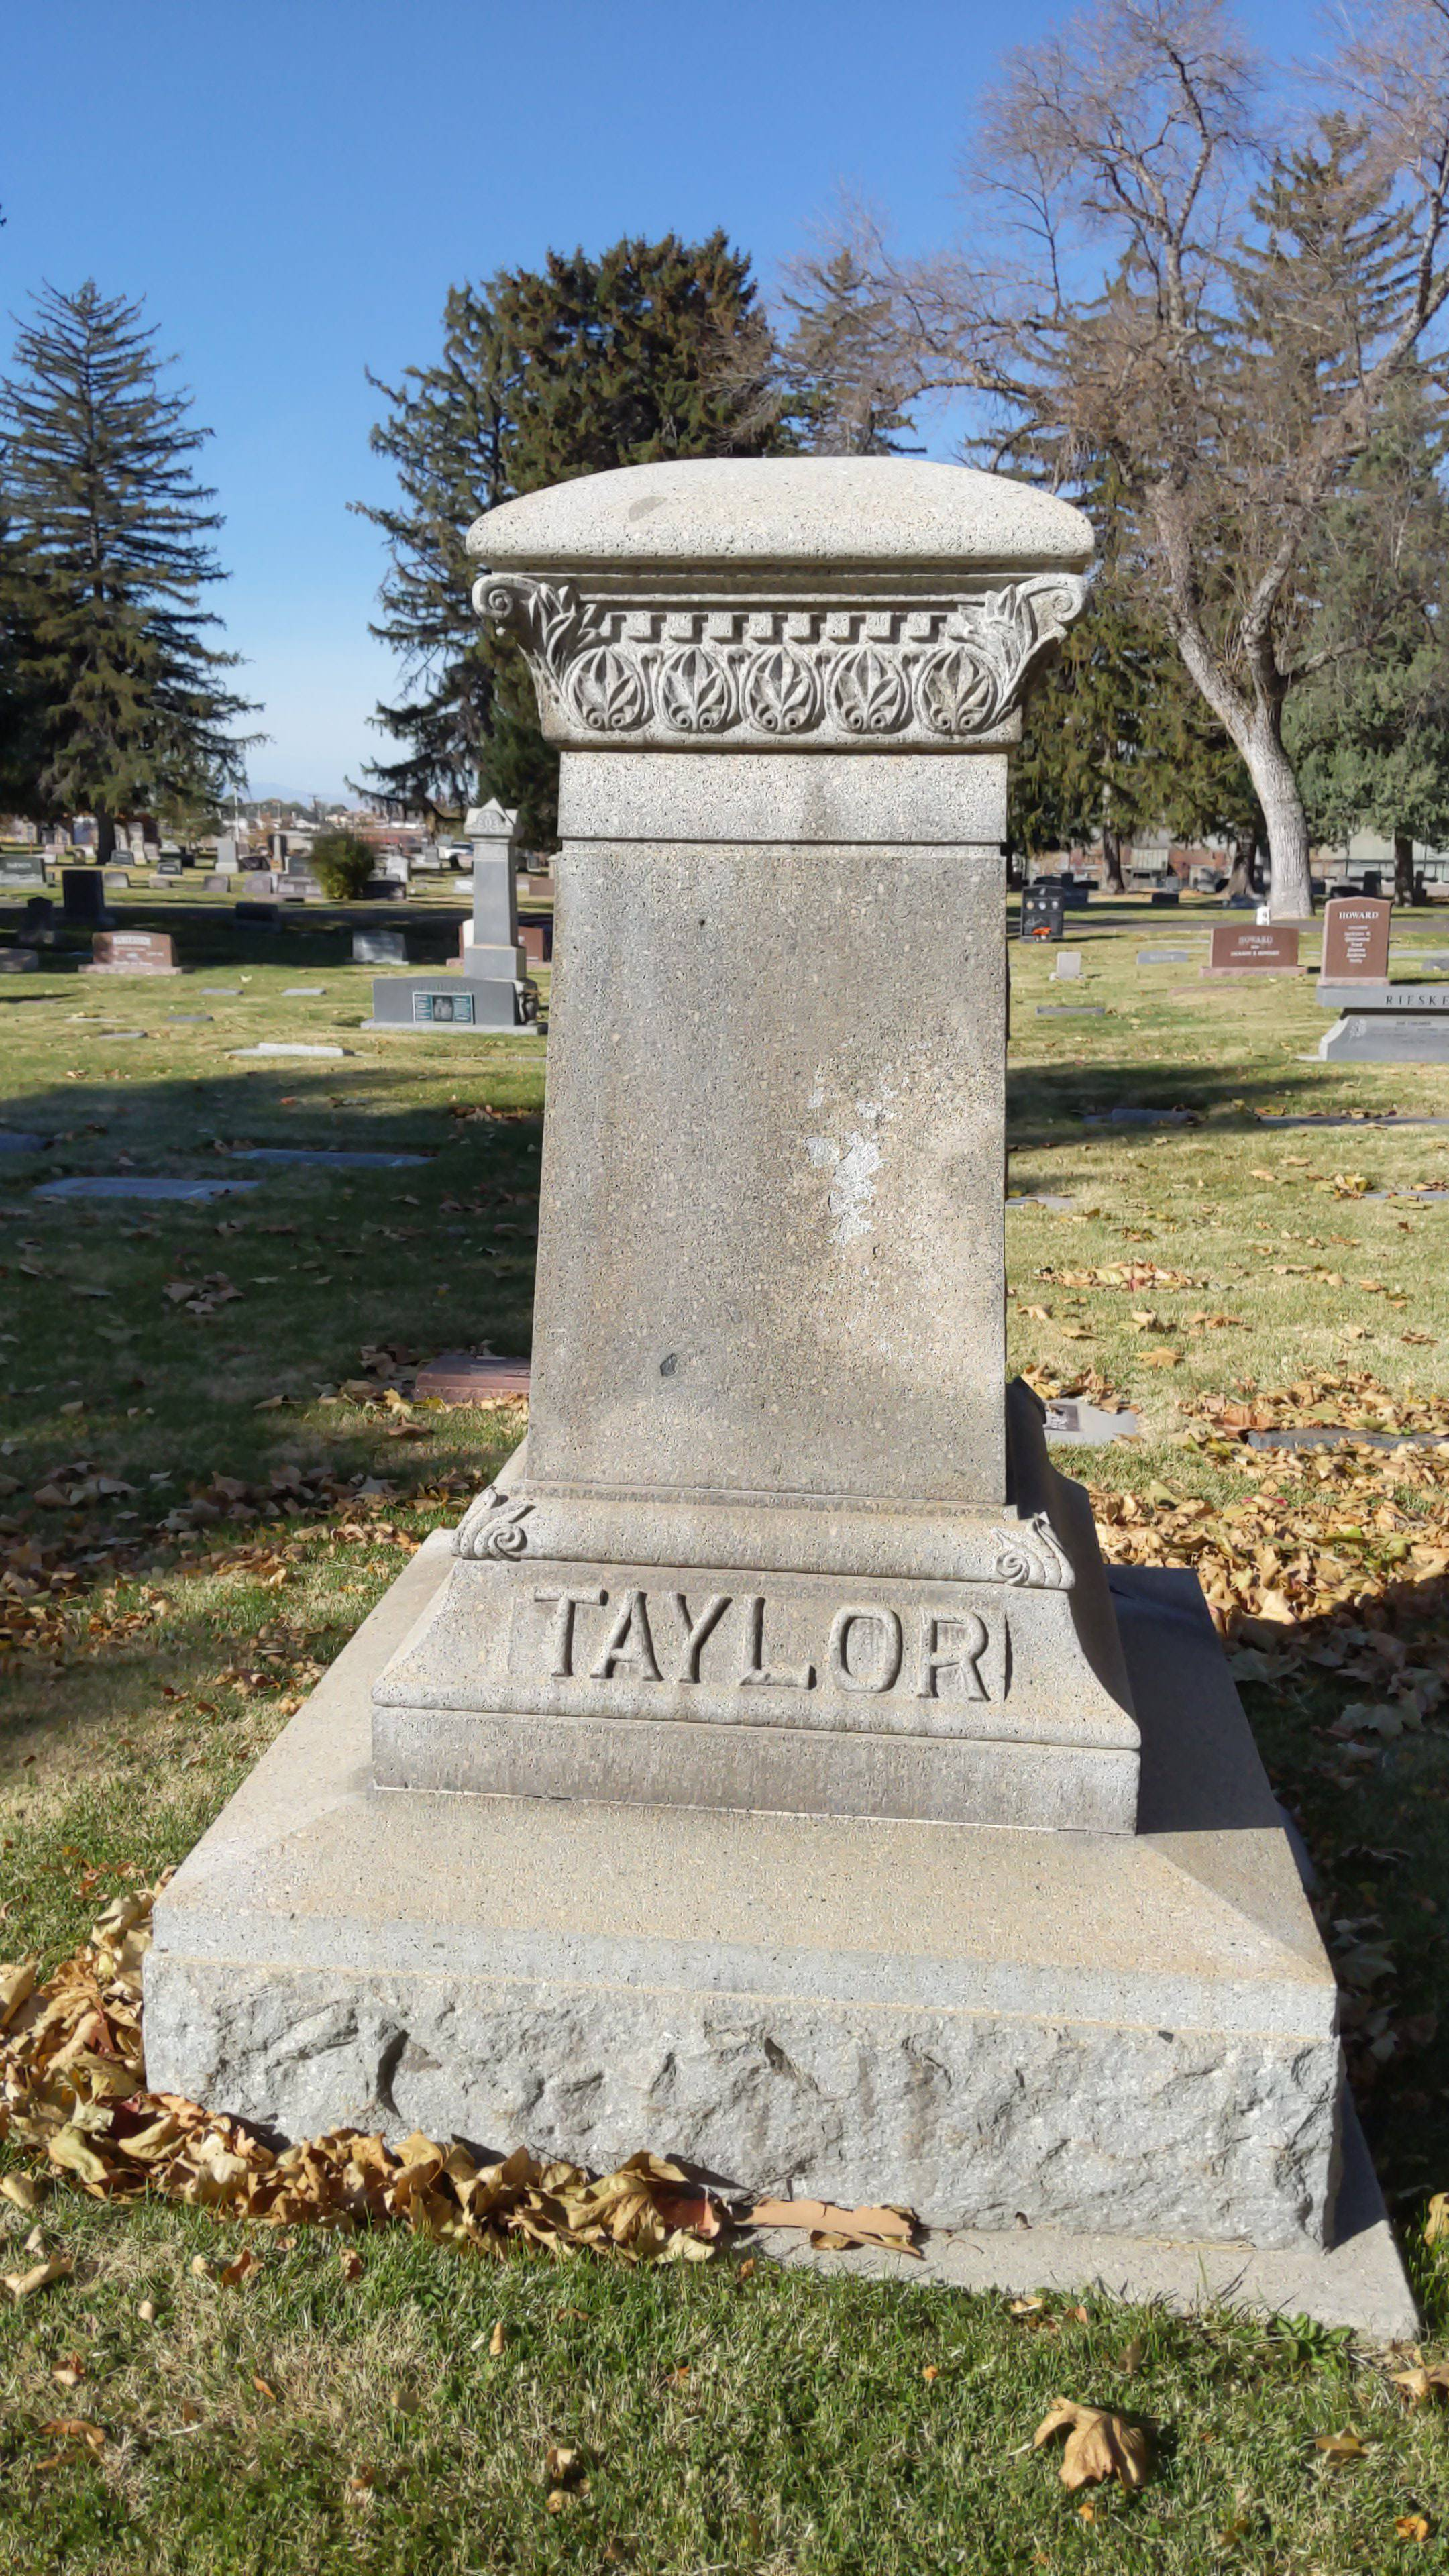obelisk: (370, 462, 1138, 1838)
